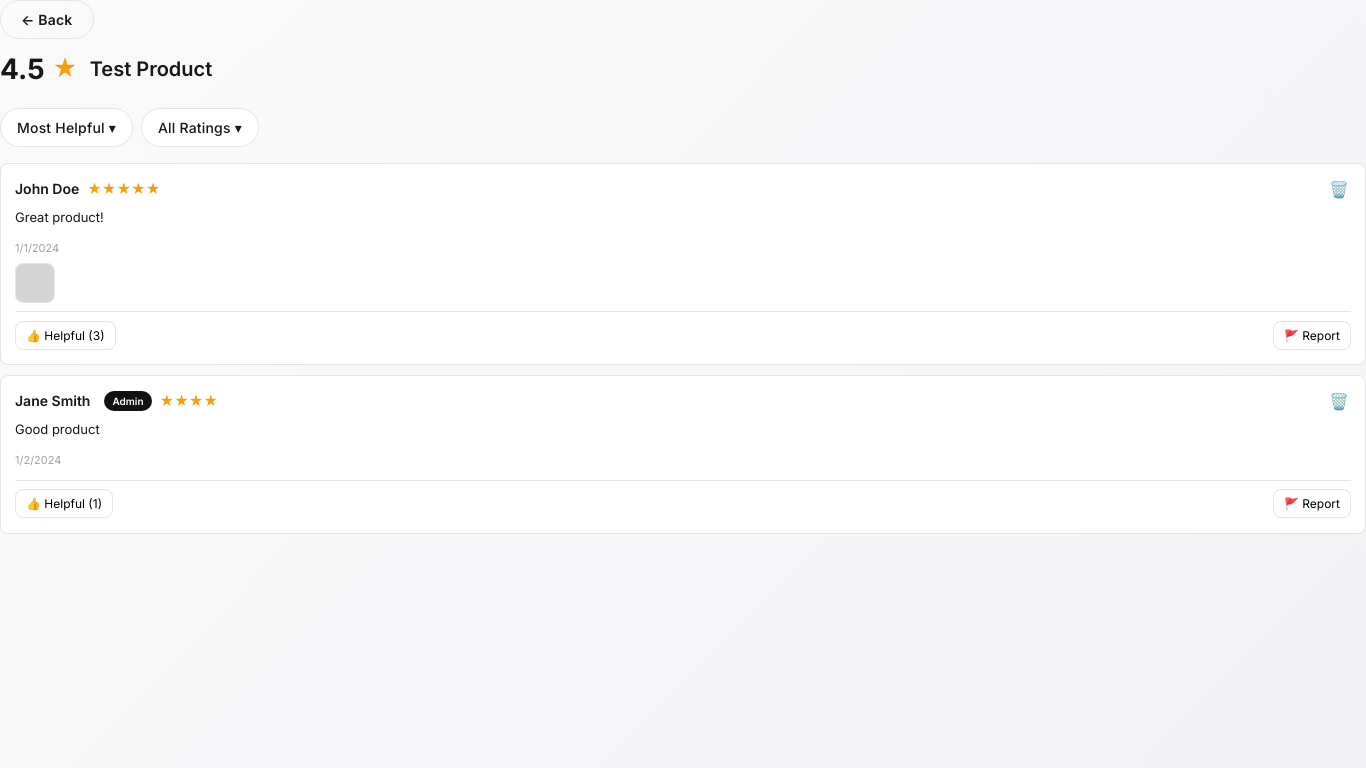
ReviewsPage › Delete Review › should show confirmation modal when delete clicked
Click the button "🗑️" in the row of "John Doe": (1339, 189) [1327, 178, 1351, 201]
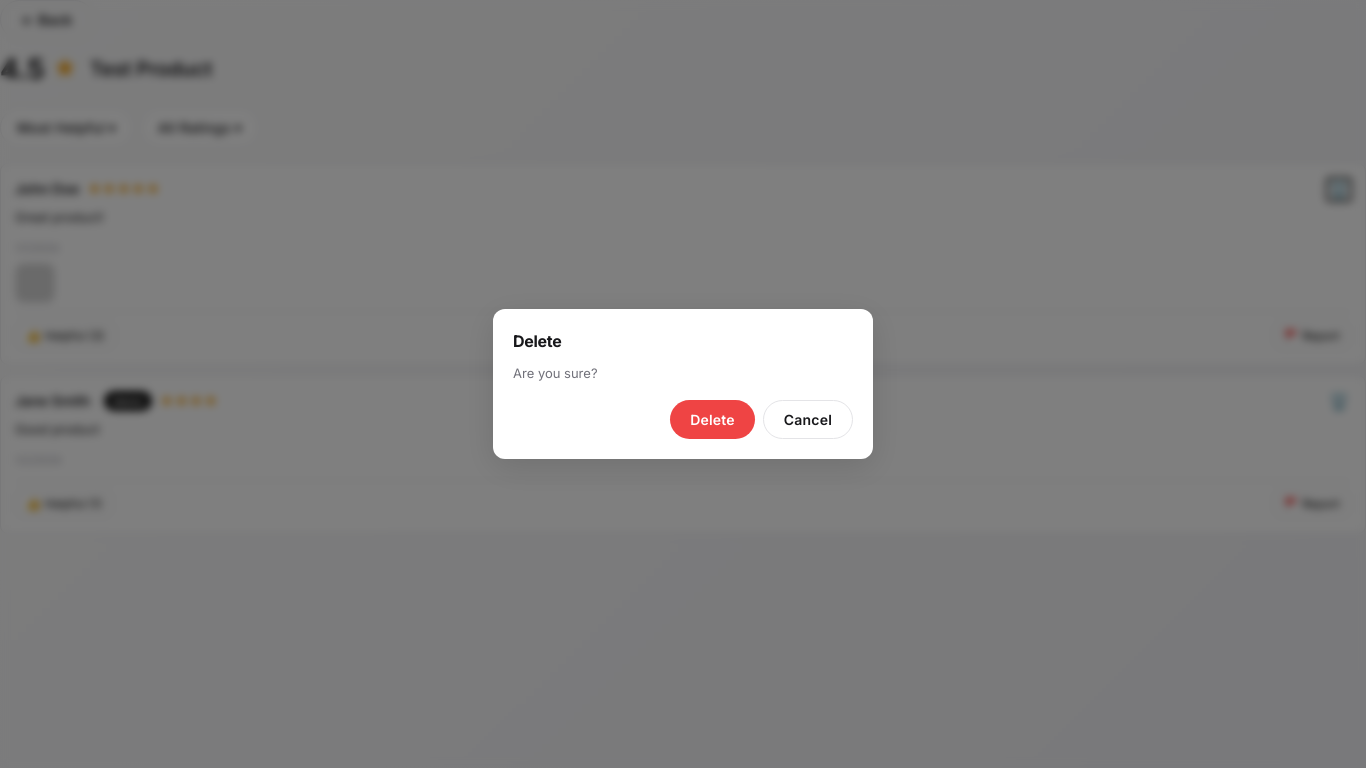
Expected: the number of headings "Delete" is 2, [513, 331, 561, 351]; [670, 400, 755, 439]
